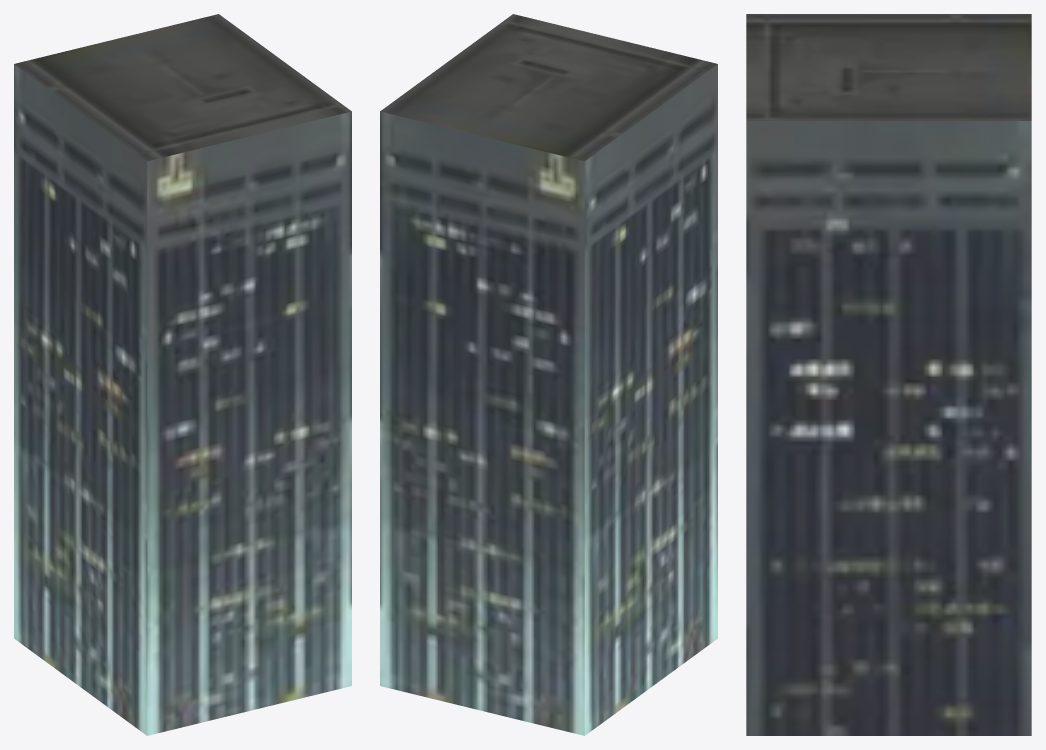
Rendered from building-night-07.glb.
The picture shows the model from 3 angles, left to right: view 1: azimuth 30°, elevation 25°; view 2: azimuth 150°, elevation 25°; view 3: azimuth 270°, elevation 25°; orthographic projection. The views are drawn at different scales.
Visible parts, largest first — view 1: Cube.001_Background_Night_Buildings_0.007; view 2: Cube.001_Background_Night_Buildings_0.007; view 3: Cube.001_Background_Night_Buildings_0.007.
Part boxes in pixels (left/top/right/bottom): Cube.001_Background_Night_Buildings_0.007: left=14, top=14, right=351, bottom=735; Cube.001_Background_Night_Buildings_0.007: left=380, top=14, right=717, bottom=735; Cube.001_Background_Night_Buildings_0.007: left=746, top=14, right=1031, bottom=735.
Bounding box in the file's own units: 13.73 × 36.82 × 15.46.
1 material, 1 textured.
